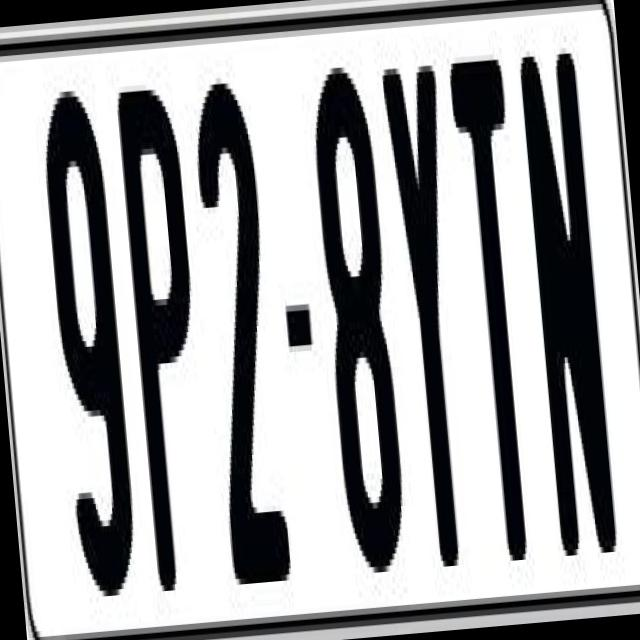2: (187, 69, 290, 573)
8: (304, 59, 408, 580)
9: (38, 88, 148, 622)
N: (518, 35, 618, 550)
P: (110, 83, 215, 592)
T: (444, 59, 546, 568)
Y: (381, 59, 481, 568)
